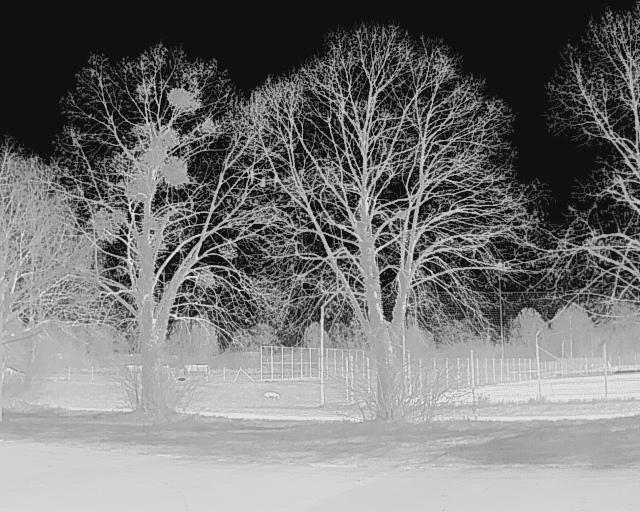drone: (239, 170, 285, 190)
